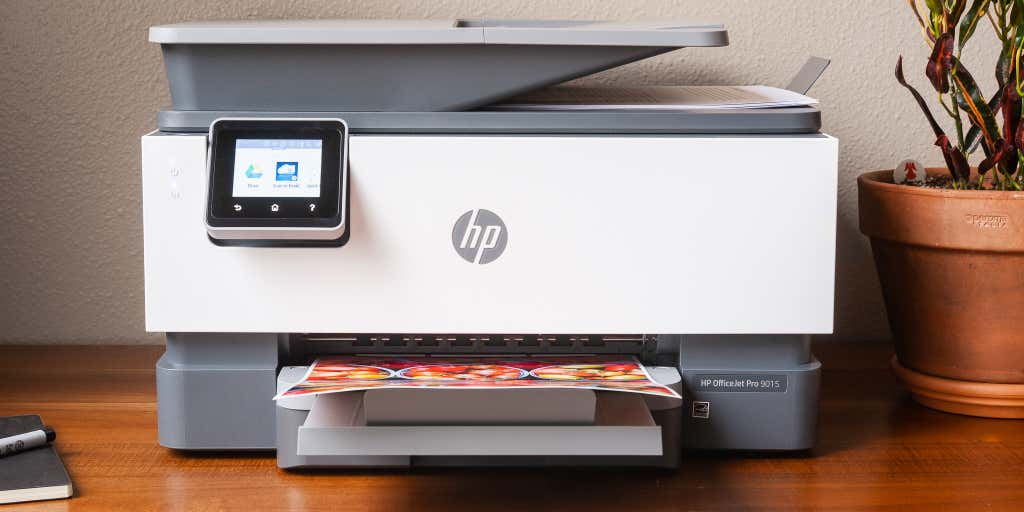printer: (126, 9, 842, 473)
